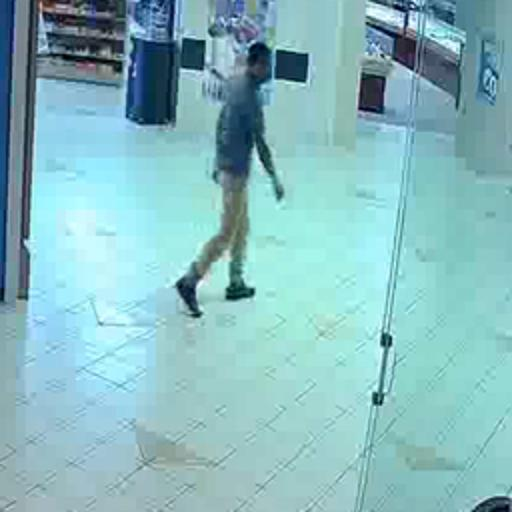Humans: (160, 21, 329, 330)
